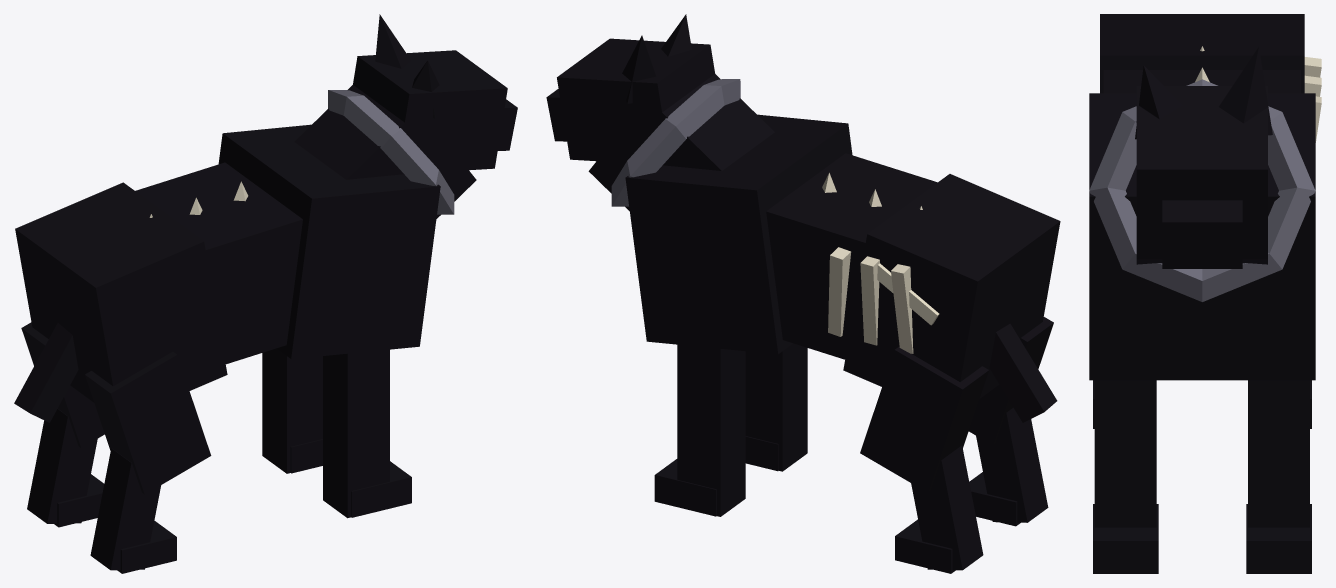
File: black_hound_lowpoly.glb
3 views of the same model, side by side, from view 1: azimuth 30°, elevation 25°; view 2: azimuth 150°, elevation 25°; view 3: azimuth 270°, elevation 25° (orthographic). The views are drawn at different scales.
Visible parts, largest first — view 1: haunches, chest, torso, head, leg_rear_upper_1, leg_front_1, neck, leg_front_0, leg_rear_lower_1, leg_rear_lower_0, iron_collar, tail (+7 smaller); view 2: chest, haunches, torso, head, leg_rear_upper_0, leg_front_0, leg_front_1, neck, leg_rear_lower_0, leg_rear_lower_1, iron_collar, tail (+12 smaller); view 3: chest, head, iron_collar, haunches, leg_front_1, leg_front_0, snout, paw_front_1, paw_front_0, torso, ear_left, ear_right (+2 smaller).
Boxes of the visible parts, x1,y1,x2,y2 form: haunches: (15, 182, 227, 402); chest: (218, 124, 440, 358); torso: (135, 162, 302, 364); head: (353, 50, 507, 170); leg_rear_upper_1: (85, 352, 211, 494); leg_front_1: (323, 349, 389, 518); neck: (294, 85, 476, 218); leg_front_0: (262, 348, 322, 473); leg_rear_lower_1: (90, 448, 161, 570); leg_rear_lower_0: (27, 408, 97, 523); iron_collar: (328, 90, 454, 214); tail: (14, 323, 78, 422); chest: (625, 114, 852, 354); haunches: (843, 174, 1060, 398); torso: (766, 153, 937, 359); head: (557, 38, 714, 165); leg_rear_upper_0: (860, 346, 988, 492); leg_front_0: (677, 344, 745, 516); leg_front_1: (745, 343, 807, 471); neck: (588, 74, 774, 210); leg_rear_lower_0: (911, 445, 983, 570); leg_rear_lower_1: (976, 407, 1048, 522); iron_collar: (611, 79, 740, 206); tail: (989, 323, 1057, 422); chest: (1089, 93, 1315, 380); head: (1136, 86, 1267, 259); iron_collar: (1089, 79, 1315, 301); haunches: (1100, 14, 1304, 93); leg_front_1: (1094, 380, 1156, 527); leg_front_0: (1248, 380, 1309, 527); snout: (1162, 200, 1242, 268); paw_front_1: (1093, 504, 1158, 573); paw_front_0: (1246, 504, 1311, 573); torso: (1103, 70, 1300, 93); ear_left: (1219, 47, 1272, 135); ear_right: (1135, 65, 1182, 139).
Size of what is drawn, in the model's own units: 1.92 by 1.67 by 0.637.
